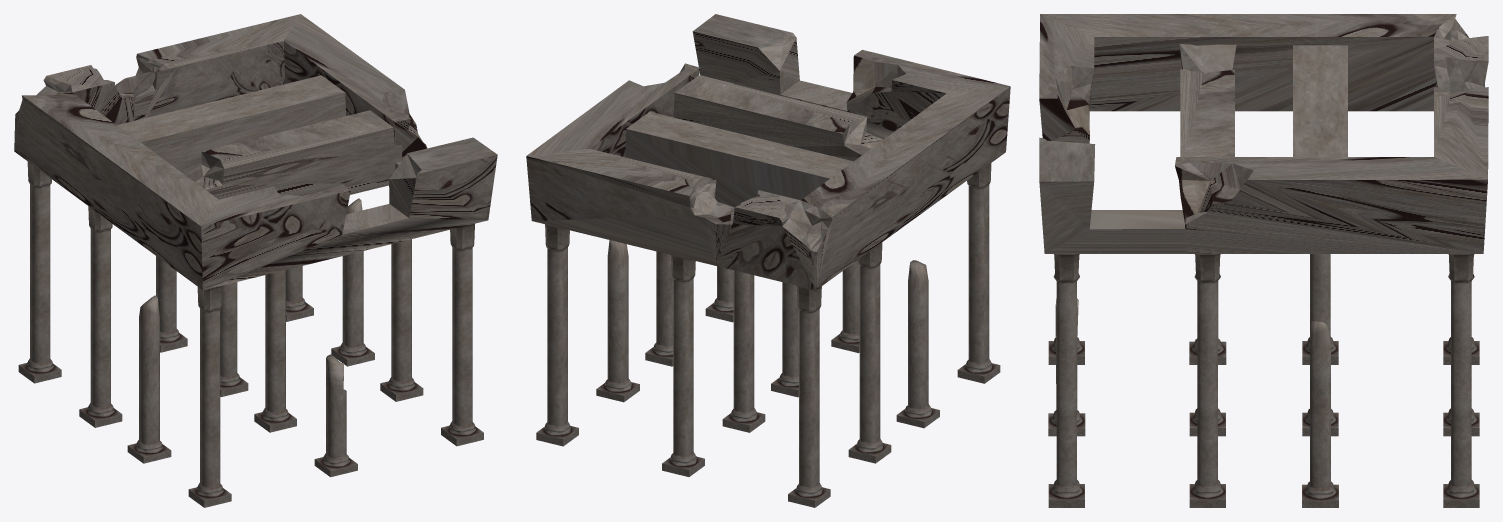
Rendered from sb_obj_outdoor009_AncientTemple_set01_col.fbx.
The picture shows the model from 3 angles, left to right: view 1: azimuth 30°, elevation 25°; view 2: azimuth 150°, elevation 25°; view 3: azimuth 270°, elevation 25°; orthographic projection. The views are drawn at different scales.
Parts seen in each view (by area): view 1: sb_obj_outdoor009_AncientTemple_set01_col; view 2: sb_obj_outdoor009_AncientTemple_set01_col; view 3: sb_obj_outdoor009_AncientTemple_set01_col.
Part boxes in pixels (left/top/right/bottom): sb_obj_outdoor009_AncientTemple_set01_col: left=14, top=14, right=497, bottom=507; sb_obj_outdoor009_AncientTemple_set01_col: left=526, top=14, right=1010, bottom=507; sb_obj_outdoor009_AncientTemple_set01_col: left=1039, top=14, right=1488, bottom=507.
Bounding box in the file's own units: 11.1 × 10.23 × 12.56.
